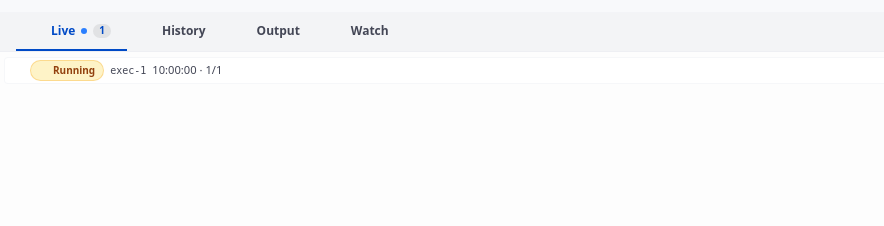
Test case: ExecutionPanel › outputTab_emptyDatabus_showsWaitingMessage_whenSteps
Click the button "Output" at (269, 32), box x1=222 y1=13 x2=316 y2=51
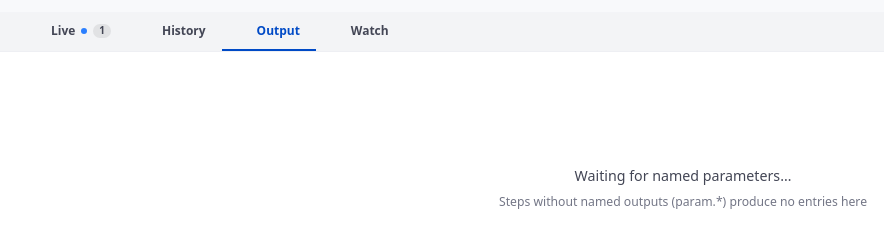
Check: the text "Waiting for named parameters…" is shown, box x1=574 y1=166 x2=791 y2=186
